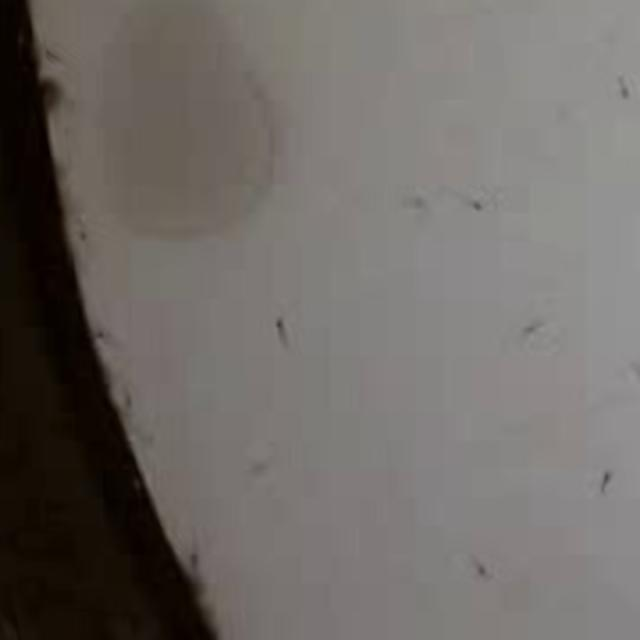shrimp-seed: (262, 305, 308, 360), (604, 60, 636, 122), (582, 460, 621, 510), (181, 535, 219, 582), (450, 542, 492, 582), (34, 37, 77, 74), (508, 304, 545, 338), (118, 384, 146, 426)
